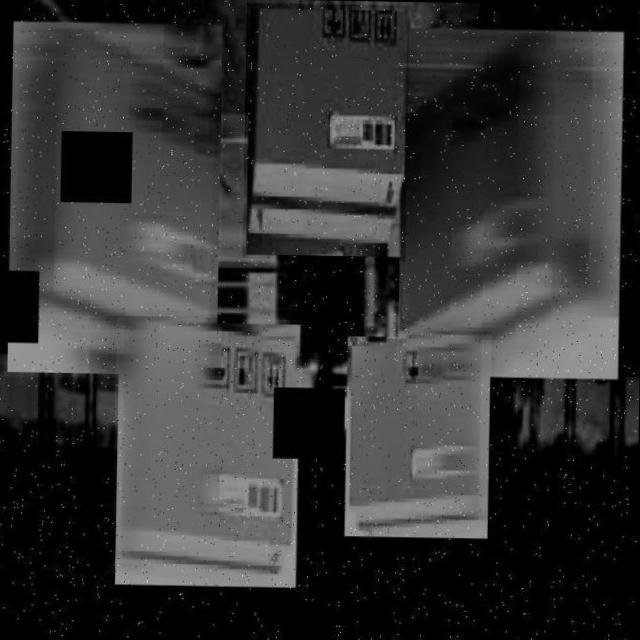box: (394, 21, 626, 384), (2, 15, 224, 380), (111, 316, 302, 590), (242, 2, 409, 261), (342, 332, 492, 540)
